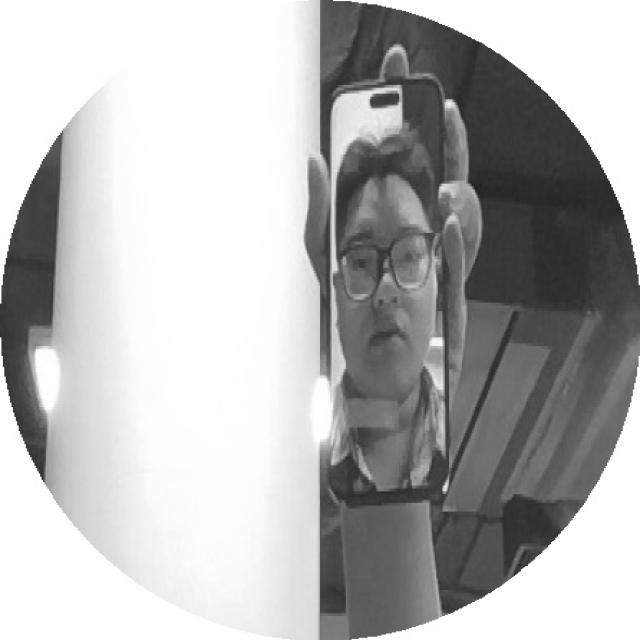fake: (310, 66, 474, 513), (299, 67, 457, 509)
